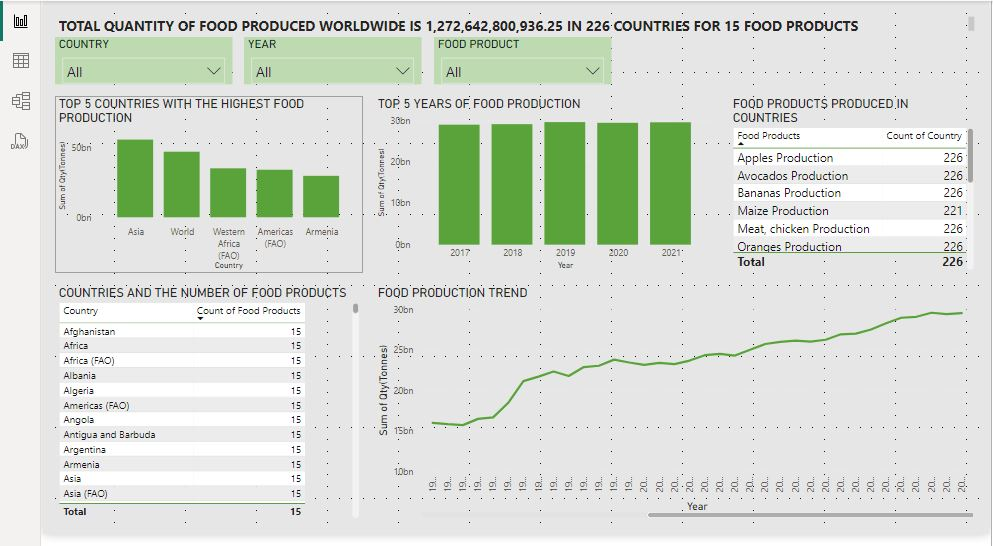

What the dashboard file says about the page in this screenshot:
{"tool":"powerbi","page":{"name":"Analysis","canvas":[1280,720],"ordinal":0},"visuals":[{"type":"lineChart","title":"FOOD PRODUCTION TREND","fields":{"Category":["world food production.Year"],"Y":["Sum(world food production.Qty(Tonnes))"]},"box":[448,384,816,320],"z":0},{"type":"clusteredColumnChart","title":"TOP 5 COUNTRIES WITH THE HIGHEST FOOD PRODUCTION","fields":{"Y":["Sum(world food production.Qty(Tonnes))"],"Category":["world food production.Country"]},"box":[16,128,416,240],"z":1000},{"type":"tableEx","title":"FOOD PRODUCTS PRODUCED IN COUNTRIES","fields":{"Values":["world food production.Food Products","world food production.Country"]},"box":[928,128,336,240],"z":2000},{"type":"tableEx","title":"COUNTRIES AND THE NUMBER OF FOOD PRODUCTS","fields":{"Values":["world food production.Country","world food production.Food Products"]},"box":[16,384,416,320],"z":3000},{"type":"textbox","box":[16,16,1248,32],"z":4000},{"type":"clusteredColumnChart","title":"TOP 5 YEARS OF FOOD PRODUCTION","fields":{"Y":["Sum(world food production.Qty(Tonnes))"],"Category":["world food production.Year"]},"box":[448,128,464,240],"z":5000},{"type":"slicer","title":"COUNTRY","fields":{"Values":["world food production.Country"]},"box":[16,48,240,64],"z":6000},{"type":"slicer","title":"YEAR","fields":{"Values":["world food production.Year"]},"box":[272,48,240,64],"z":7000},{"type":"slicer","title":"FOOD PRODUCT","fields":{"Values":["world food production.Food Products"]},"box":[528,48,240,64],"z":8000}]}

Visuals, with their boxes on the page's 1280x720 design canvas (x1, y1, x2, y2). These are canvas units, not pixel positions in the 993x546 screenshot, which may show the page scaled, cropped or inside an application window:
"FOOD PRODUCTION TREND" lineChart: (448,384,1264,704)
"TOP 5 COUNTRIES WITH THE HIGHEST FOOD PRODUCTION" clusteredColumnChart: (16,128,432,368)
"FOOD PRODUCTS PRODUCED IN COUNTRIES" tableEx: (928,128,1264,368)
"COUNTRIES AND THE NUMBER OF FOOD PRODUCTS" tableEx: (16,384,432,704)
textbox: (16,16,1264,48)
"TOP 5 YEARS OF FOOD PRODUCTION" clusteredColumnChart: (448,128,912,368)
"COUNTRY" slicer: (16,48,256,112)
"YEAR" slicer: (272,48,512,112)
"FOOD PRODUCT" slicer: (528,48,768,112)
